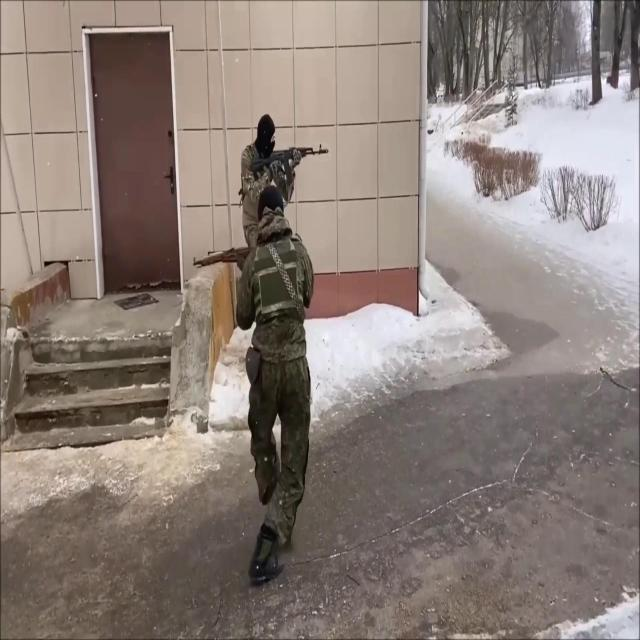pistol: (249, 140, 330, 192), (192, 241, 260, 276)
